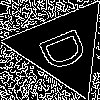D: (38, 22, 99, 74)
